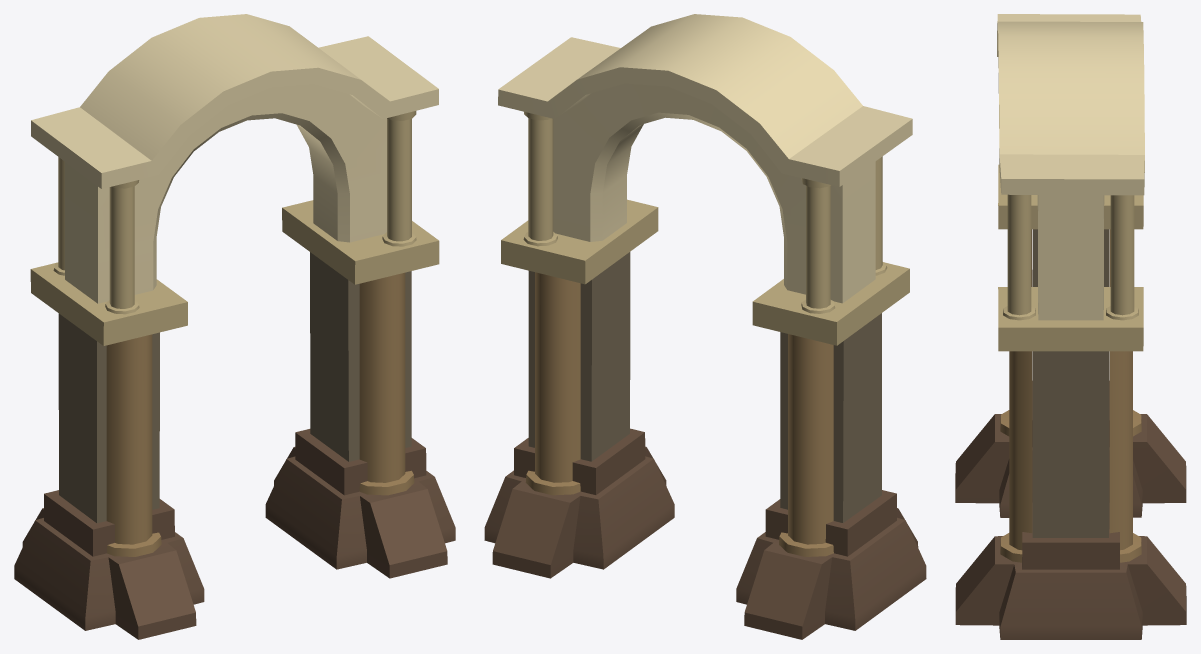
The model's file is portal_entrence.glb.
3 renders of one model, left to right at view 1: azimuth 30°, elevation 25°; view 2: azimuth 150°, elevation 25°; view 3: azimuth 270°, elevation 25°, orthographic.
Parts seen in each view (by area): view 1: Object_2; view 2: Object_2; view 3: Object_2.
Part boxes in pixels (x1=…): Object_2: x1=14, y1=14, x2=455, y2=639; Object_2: x1=484, y1=14, x2=926, y2=639; Object_2: x1=955, y1=14, x2=1186, y2=639.
Size of the model in its own units: 7.26 by 9.64 by 3.94.
1 material, 1 textured.
